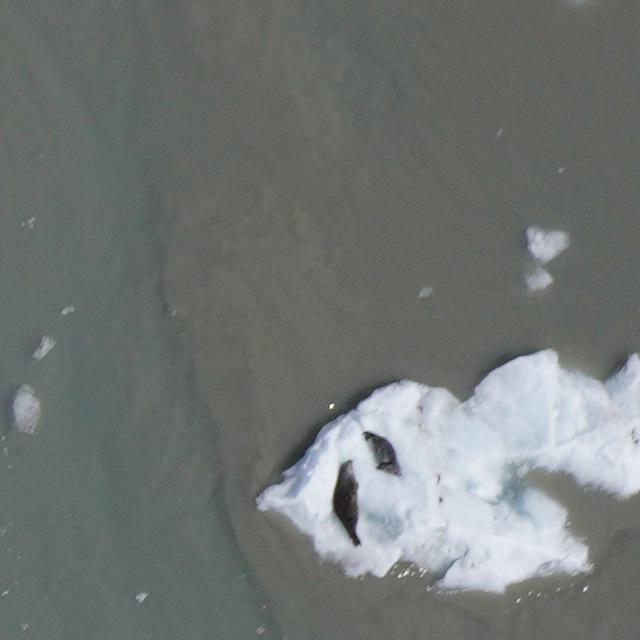seal: (328, 460, 363, 549), (360, 423, 404, 483)
